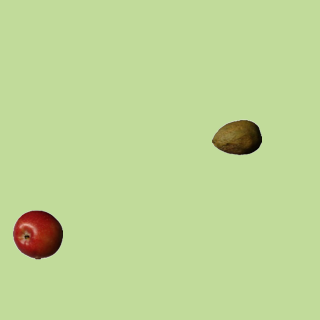Apple Braeburn: (12, 209, 62, 259)
Papaya: (211, 112, 261, 162)
